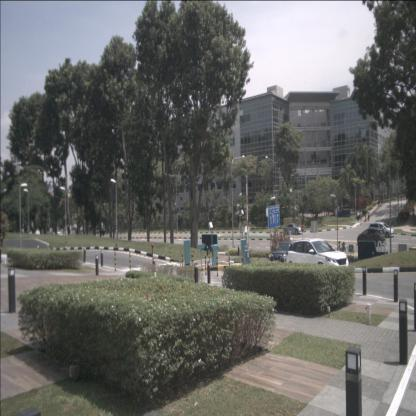human-pedestrian-adult: (363, 208, 367, 222), (367, 209, 371, 222), (407, 208, 410, 223), (412, 208, 415, 220), (378, 195, 381, 207), (357, 211, 360, 222), (360, 209, 362, 223), (362, 208, 364, 219)
vehicle-car: (286, 239, 349, 280), (270, 242, 298, 266), (357, 228, 386, 247), (369, 222, 394, 238), (283, 223, 302, 235)
